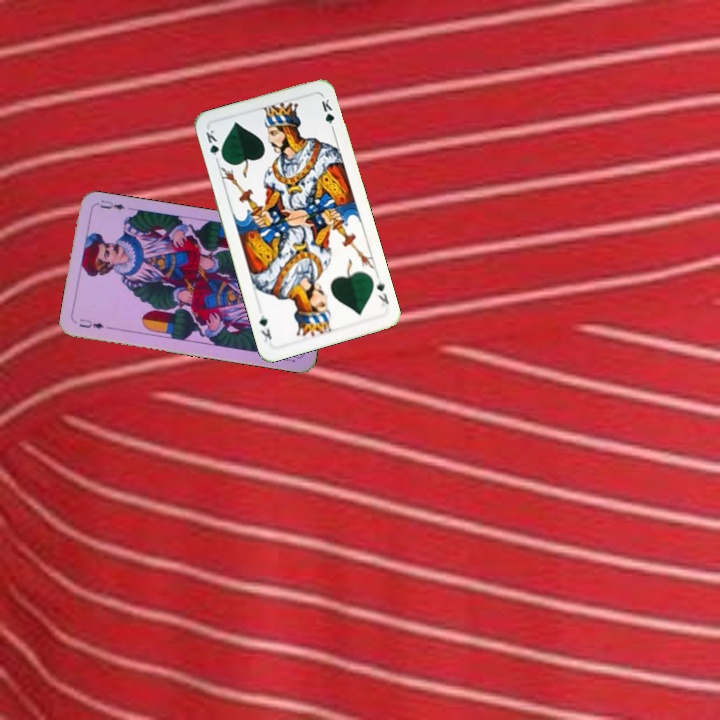EU: (75, 315, 106, 332)
GK: (202, 126, 226, 165), (372, 276, 392, 309)
